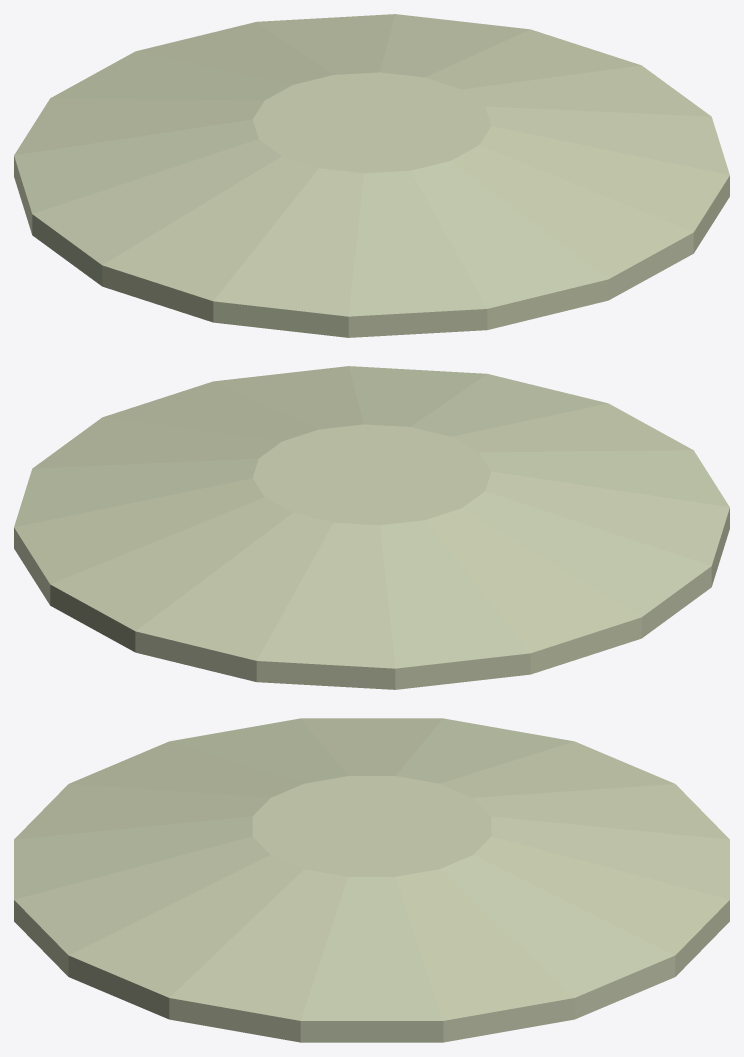
Rendered from aquila_adapter_s1p5_s0_1_collider.obj.
3 views of the same model, one above another, from view 1: azimuth 30°, elevation 25°; view 2: azimuth 150°, elevation 25°; view 3: azimuth 270°, elevation 25° (orthographic).
Parts seen in each view (by area): view 1: aquila_adapter_s1p5_s0_1_collider; view 2: aquila_adapter_s1p5_s0_1_collider; view 3: aquila_adapter_s1p5_s0_1_collider.
Part boxes in pixels (x1,y1,x2,y2): aquila_adapter_s1p5_s0_1_collider: (14,14,729,337); aquila_adapter_s1p5_s0_1_collider: (14,366,729,689); aquila_adapter_s1p5_s0_1_collider: (14,718,729,1042).
Size of the model in its own units: 1.88 by 0.1875 by 1.88.
